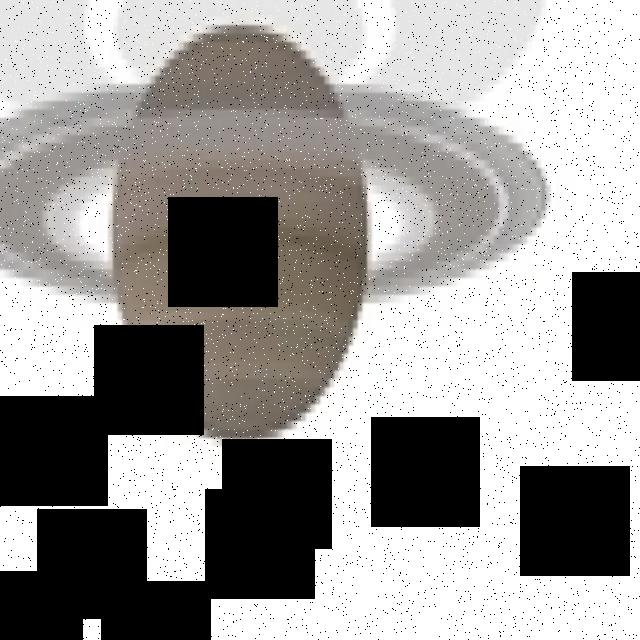Saturn: (1, 25, 550, 463)
